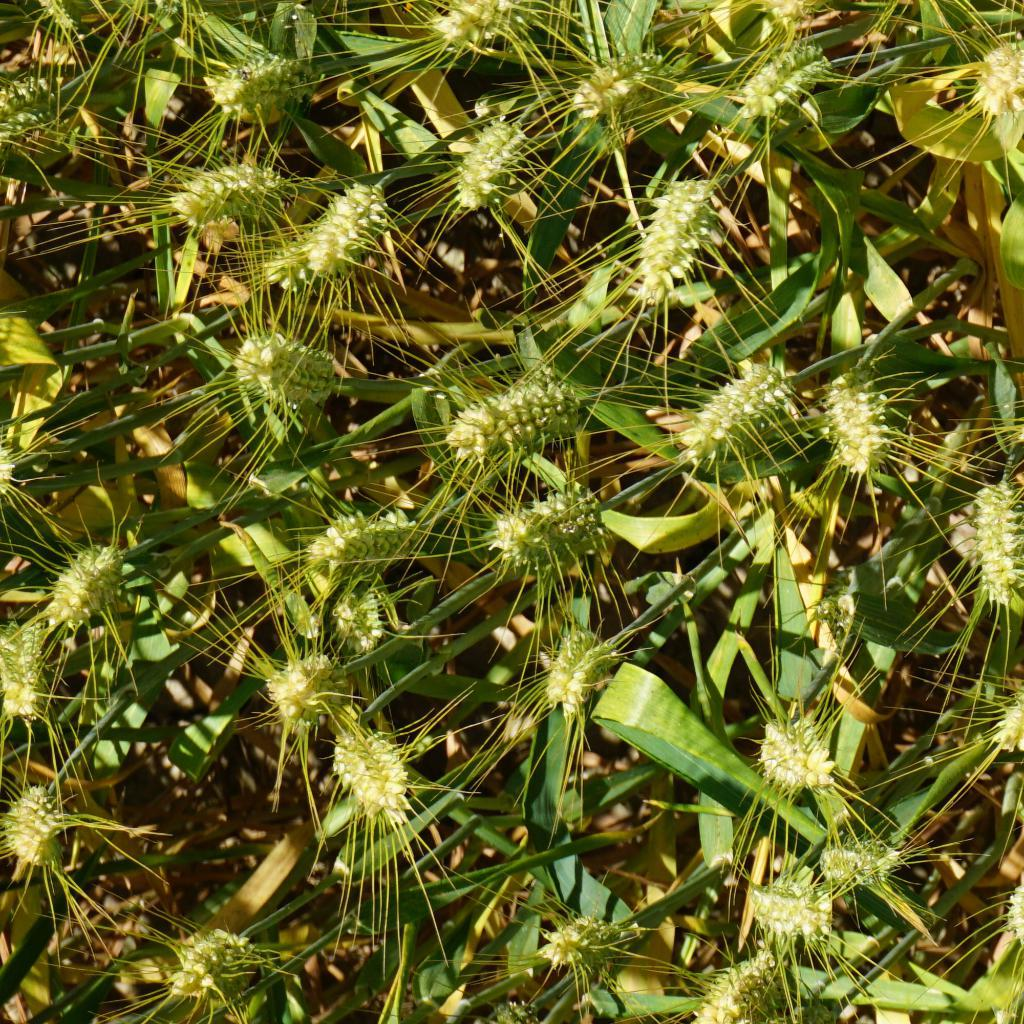0-0: (496, 484, 618, 579), (630, 185, 722, 309), (736, 35, 858, 121), (451, 376, 577, 458), (679, 360, 787, 453), (828, 354, 905, 478), (961, 470, 1024, 618), (325, 718, 417, 817), (297, 193, 390, 287), (565, 37, 675, 114), (202, 43, 305, 125), (226, 332, 344, 403), (702, 943, 805, 1024), (307, 507, 419, 581), (181, 153, 293, 226), (175, 917, 271, 1002), (454, 102, 529, 198), (756, 707, 840, 791), (332, 574, 413, 657), (427, 0, 549, 55), (2, 606, 58, 724), (752, 872, 846, 941), (0, 774, 69, 864), (45, 545, 130, 618), (811, 826, 911, 880), (965, 35, 1024, 125), (792, 571, 864, 644), (543, 624, 606, 700), (551, 909, 624, 970), (265, 651, 326, 718), (984, 657, 1024, 740), (998, 870, 1024, 980), (19, 0, 88, 29), (748, 0, 842, 19)
